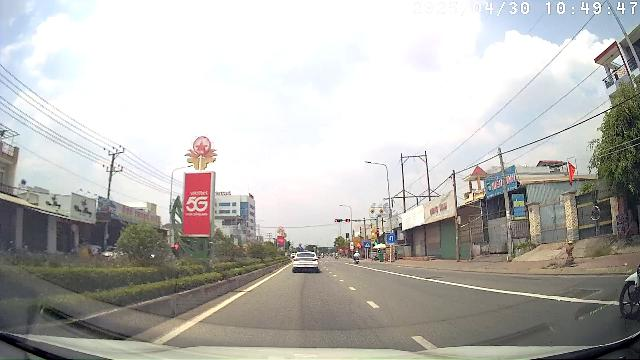423a-duong-nguoi-di-bo-sang-ngang-1: (364, 241, 371, 248)
